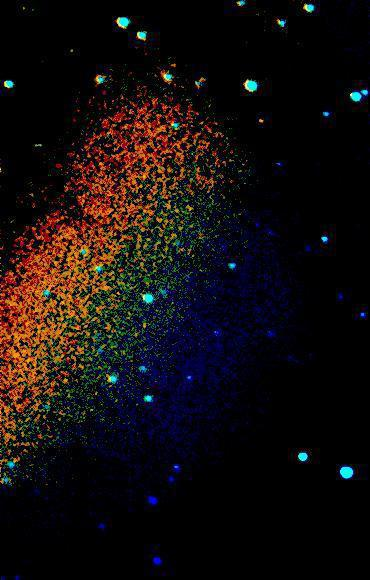star: (246, 104, 276, 134)
